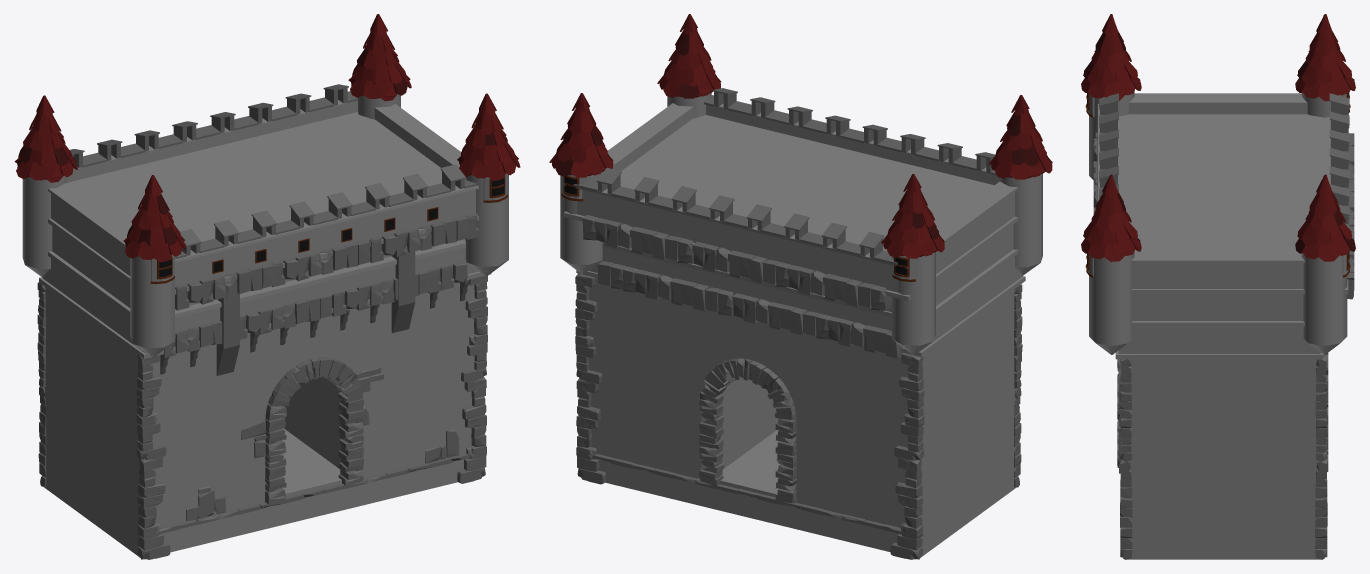
The model's file is SM_gatehouse_castle.fbx.
The picture shows the model from 3 angles, left to right: view 1: azimuth 30°, elevation 25°; view 2: azimuth 150°, elevation 25°; view 3: azimuth 270°, elevation 25°; orthographic projection.
Visible parts, largest first — view 1: Box032; view 2: Box032; view 3: Box032.
Part boxes in pixels (left/top/right/bottom): Box032: left=14, top=14, right=520, bottom=559; Box032: left=549, top=14, right=1052, bottom=559; Box032: left=1081, top=14, right=1355, bottom=559.
Bounding box in the file's own units: 688 × 425 × 653.
